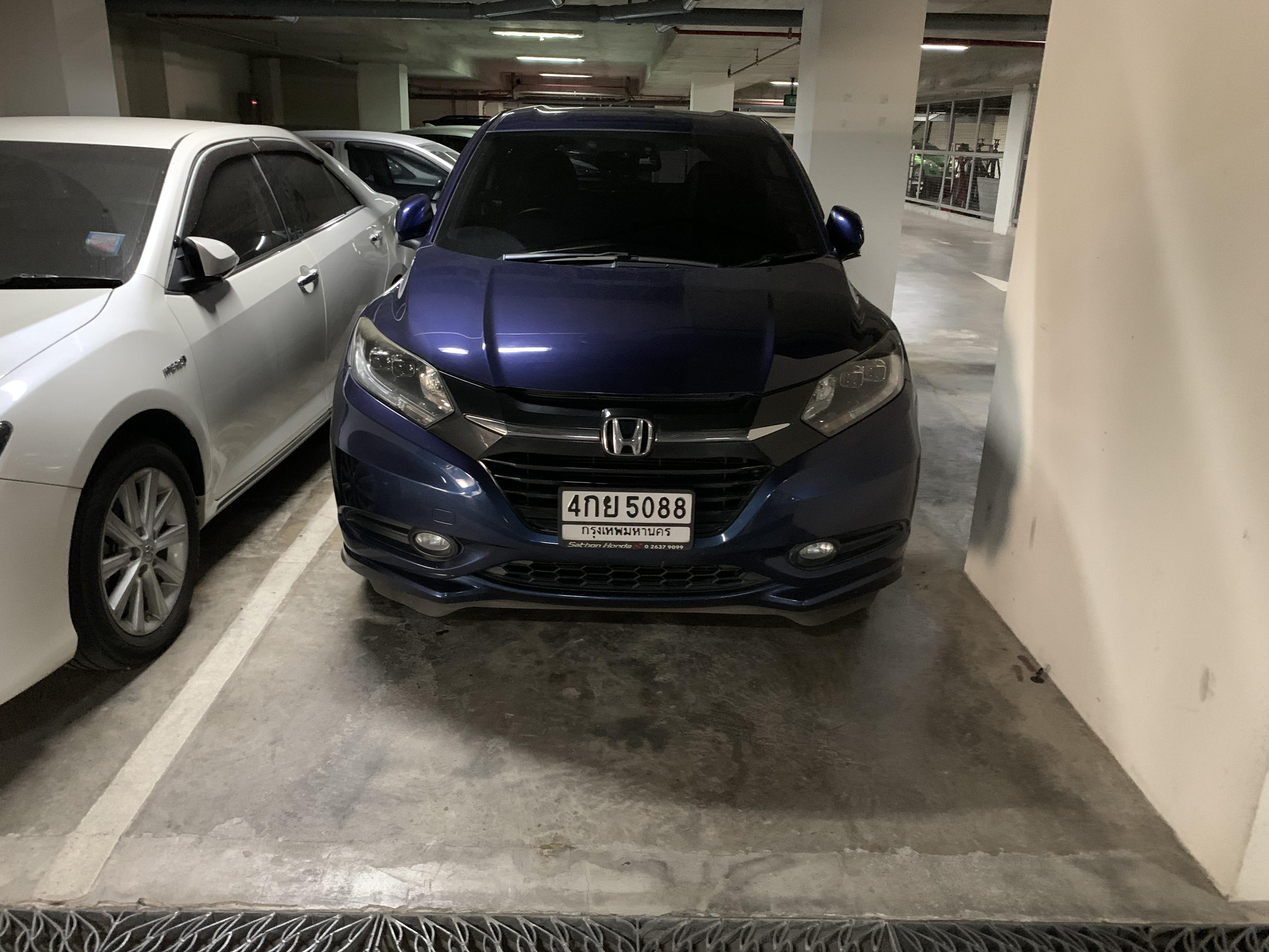license-plate: (558, 480, 697, 554)
